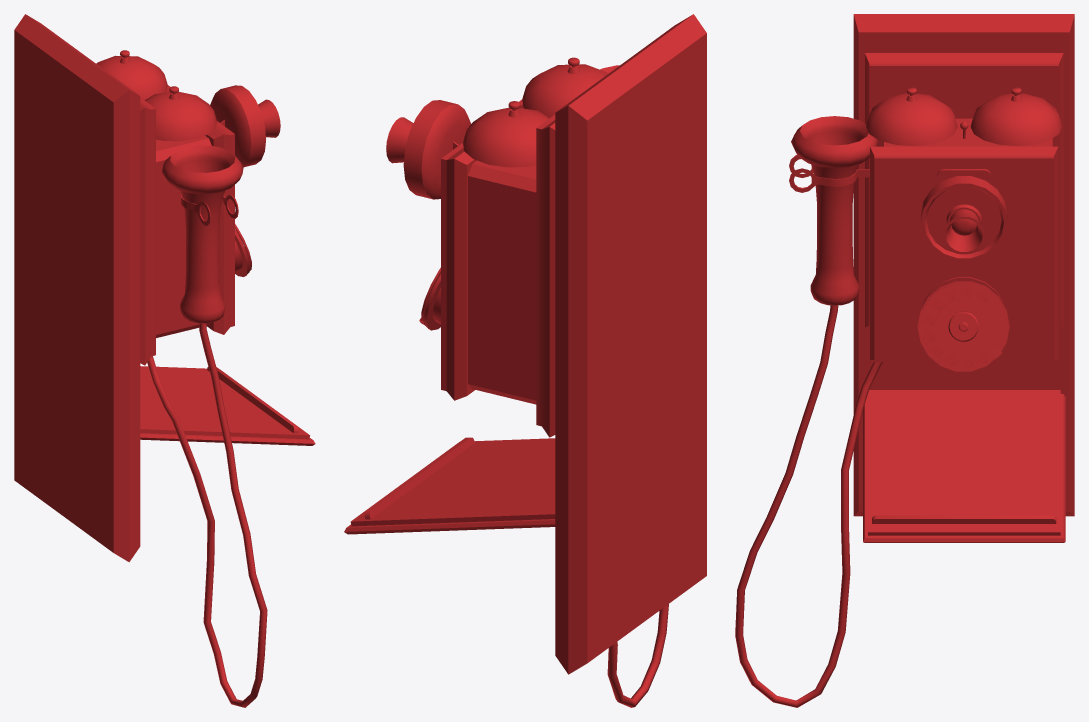
File: Phone.dae
3 views of the same model, side by side, from view 1: azimuth 30°, elevation 25°; view 2: azimuth 150°, elevation 25°; view 3: azimuth 270°, elevation 25° (orthographic). The views are drawn at different scales.
Parts seen in each view (by area): view 1: Base1_lp, Stand_lp, Phone_lp, Wire_lp, Base3_lp, Bell_lp, Base2_lp, MicBDet_lp, Base4_lp, StandDetail_lp, Mic_lp, Holder2_lp; view 2: Base1_lp, Base3_lp, Stand_lp, Base4_lp, Bell_lp, Base2_lp, MicBDet_lp, Wire_lp, StandDetail_lp, Mic_lp; view 3: Stand_lp, Base4_lp, Base1_lp, Base2_lp, Phone_lp, Bell_lp, Wire_lp, MicBDet_lp, NumberCircle_lp, CircleDetail_lp, CircleDetail2_lp, StandDetail_lp (+3 smaller).
Part boxes in pixels (left/top/right/bottom): Base1_lp: left=14, top=14, right=140, bottom=562; Stand_lp: left=140, top=366, right=315, bottom=445; Phone_lp: left=162, top=145, right=243, bottom=323; Wire_lp: left=147, top=323, right=267, bottom=707; Base3_lp: left=156, top=136, right=211, bottom=337; Bell_lp: left=96, top=55, right=216, bottom=141; Base2_lp: left=140, top=97, right=155, bottom=365; MicBDet_lp: left=210, top=85, right=265, bottom=167; Base4_lp: left=166, top=85, right=234, bottom=334; StandDetail_lp: left=207, top=367, right=298, bottom=433; Mic_lp: left=258, top=99, right=280, bottom=137; Holder2_lp: left=181, top=194, right=238, bottom=225; Base1_lp: left=555, top=14, right=706, bottom=674; Base3_lp: left=468, top=160, right=536, bottom=404; Stand_lp: left=344, top=438, right=555, bottom=534; Base4_lp: left=441, top=99, right=523, bottom=400; Bell_lp: left=463, top=64, right=608, bottom=167; Base2_lp: left=536, top=114, right=555, bottom=437; MicBDet_lp: left=403, top=100, right=470, bottom=199; Wire_lp: left=607, top=604, right=668, bottom=707; StandDetail_lp: left=364, top=437, right=474, bottom=519; Mic_lp: left=386, top=117, right=413, bottom=163; Stand_lp: left=863, top=390, right=1065, bottom=542; Base4_lp: left=870, top=146, right=1058, bottom=362; Base1_lp: left=853, top=14, right=1074, bottom=516; Base2_lp: left=865, top=53, right=1063, bottom=327; Phone_lp: left=791, top=116, right=877, bottom=305; Bell_lp: left=866, top=93, right=1062, bottom=145; Wire_lp: left=735, top=305, right=882, bottom=707; MicBDet_lp: left=920, top=176, right=1007, bottom=261; NumberCircle_lp: left=919, top=283, right=1007, bottom=370; CircleDetail_lp: left=935, top=298, right=991, bottom=354; CircleDetail2_lp: left=917, top=281, right=1009, bottom=371; StandDetail_lp: left=872, top=515, right=1056, bottom=523.
Size of the model in its own units: 94.76 by 269 by 127.
